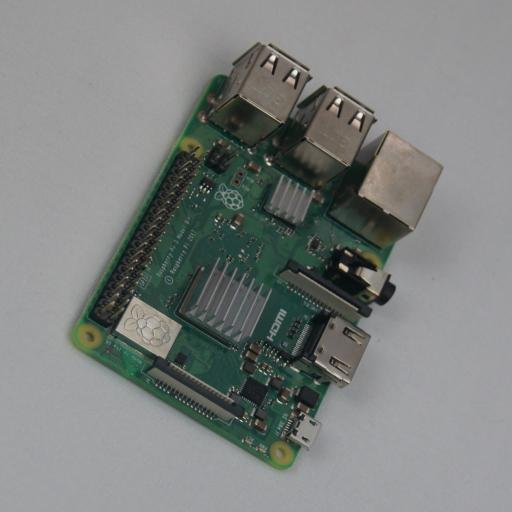Raspberry Pi 3 B-: (76, 42, 443, 470)
